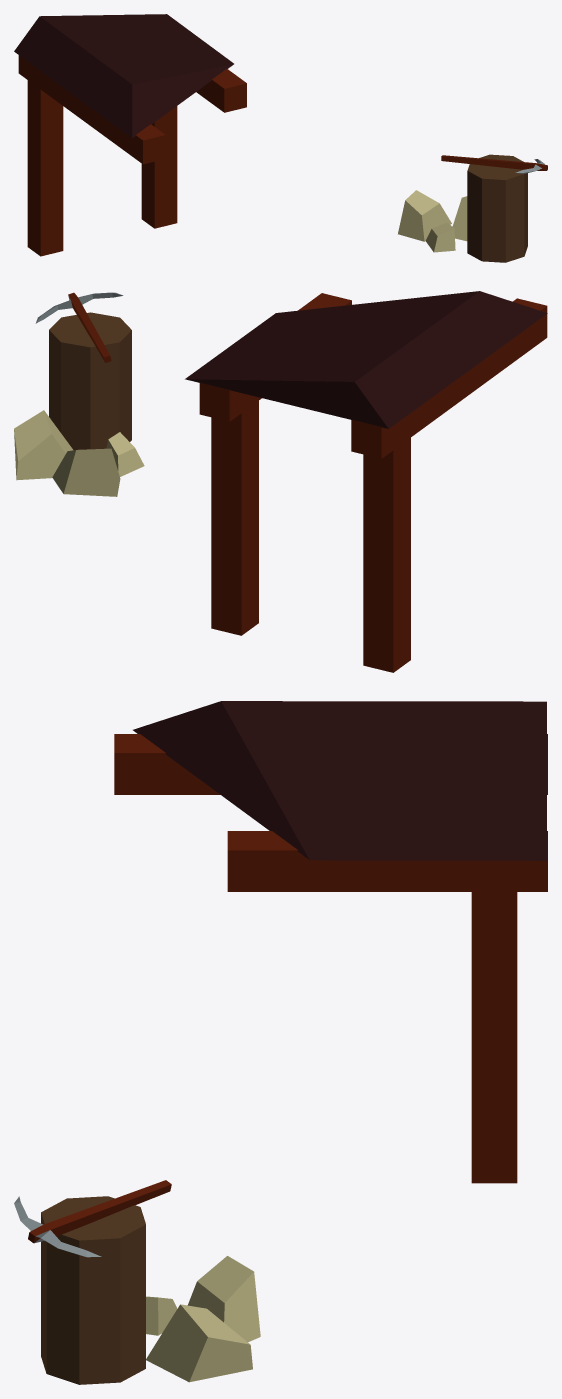
Rendered from Human-Mine.fbx.
The picture shows the model from 3 angles, top to bottom: view 1: azimuth 30°, elevation 25°; view 2: azimuth 150°, elevation 25°; view 3: azimuth 270°, elevation 25°; orthographic projection. The views are drawn at different scales.
Visible parts, largest first — view 1: Human-Mine; view 2: Human-Mine; view 3: Human-Mine.
Part boxes in pixels (left/top/right/bottom): Human-Mine: left=14, top=14, right=547, bottom=262; Human-Mine: left=14, top=291, right=547, bottom=672; Human-Mine: left=14, top=701, right=547, bottom=1384.
Size of the model in its own units: 0.9318 by 0.6243 by 0.4975.
